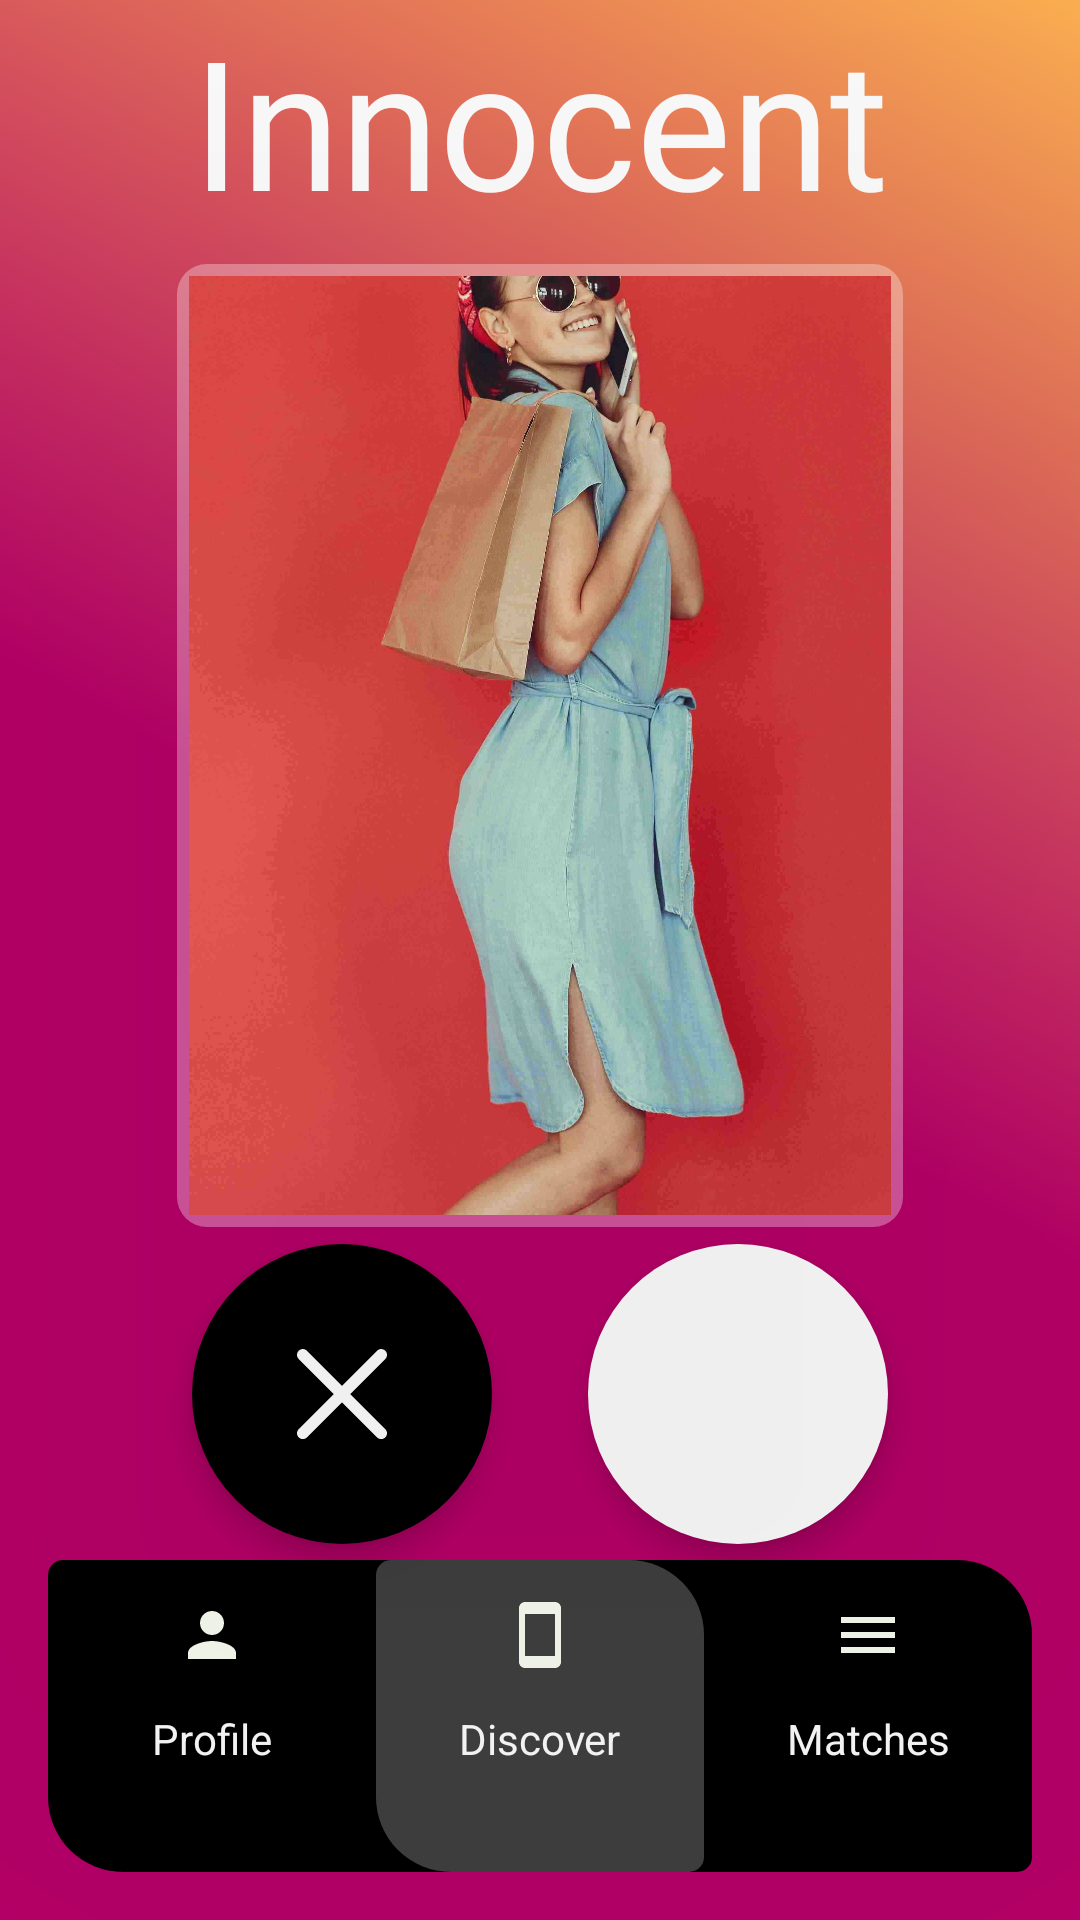

Where to tap for icons on this 1080 x 1920 app screen, as (x,y):
close: (342,1394)
menu: (868,1635)
person: (212,1635)
smartphone: (540,1635)
